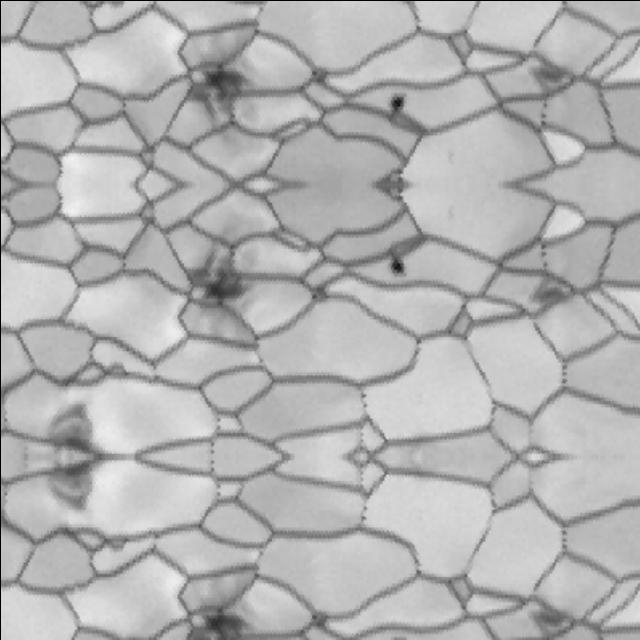good_void: (177, 232, 280, 350), (177, 18, 280, 136), (182, 568, 274, 640), (45, 400, 104, 453), (45, 461, 104, 514), (528, 54, 573, 96), (528, 273, 573, 314), (528, 600, 573, 640), (374, 245, 412, 285), (374, 84, 412, 124), (385, 629, 404, 640), (537, 249, 548, 260), (537, 109, 548, 120), (540, 260, 548, 269), (540, 100, 548, 109), (537, 244, 546, 251), (537, 118, 546, 124)
